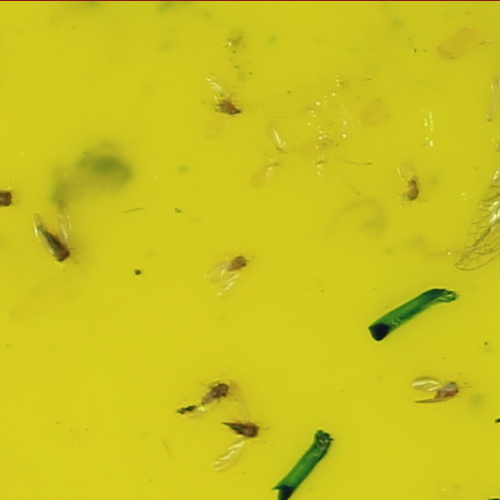psylla: (34, 221, 75, 263), (223, 418, 265, 442), (199, 377, 236, 403), (433, 377, 466, 401), (222, 254, 252, 271)
